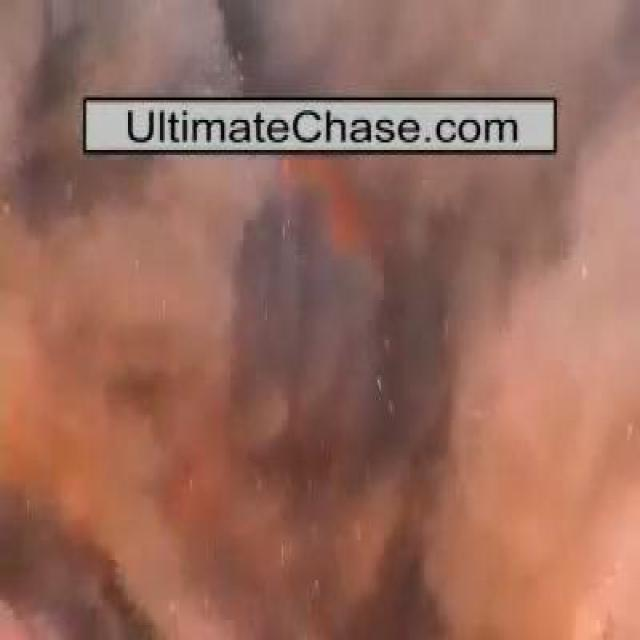Smoke: (22, 160, 598, 558)
